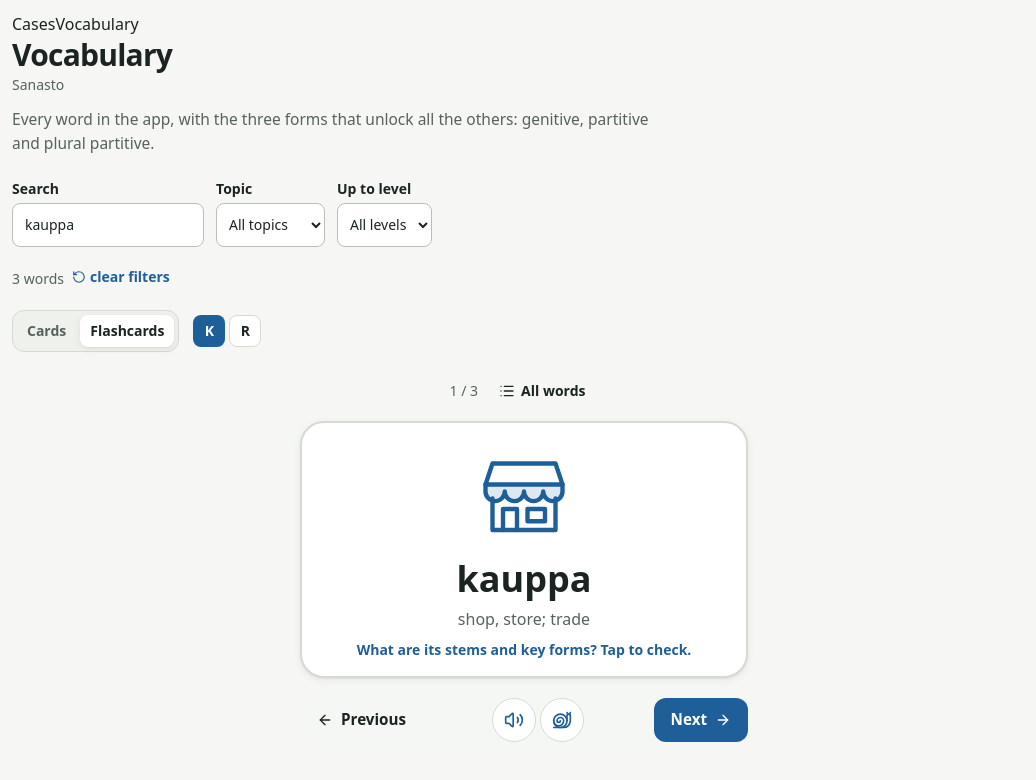
Vocabulary flashcards: the back of the card › shows the stems in the form colours and the key forms only once the card is turned
Expected: the text "Vowel stem" is not shown
Click the button "kauppa": click(524, 579) x1=456 y1=559 x2=592 y2=599
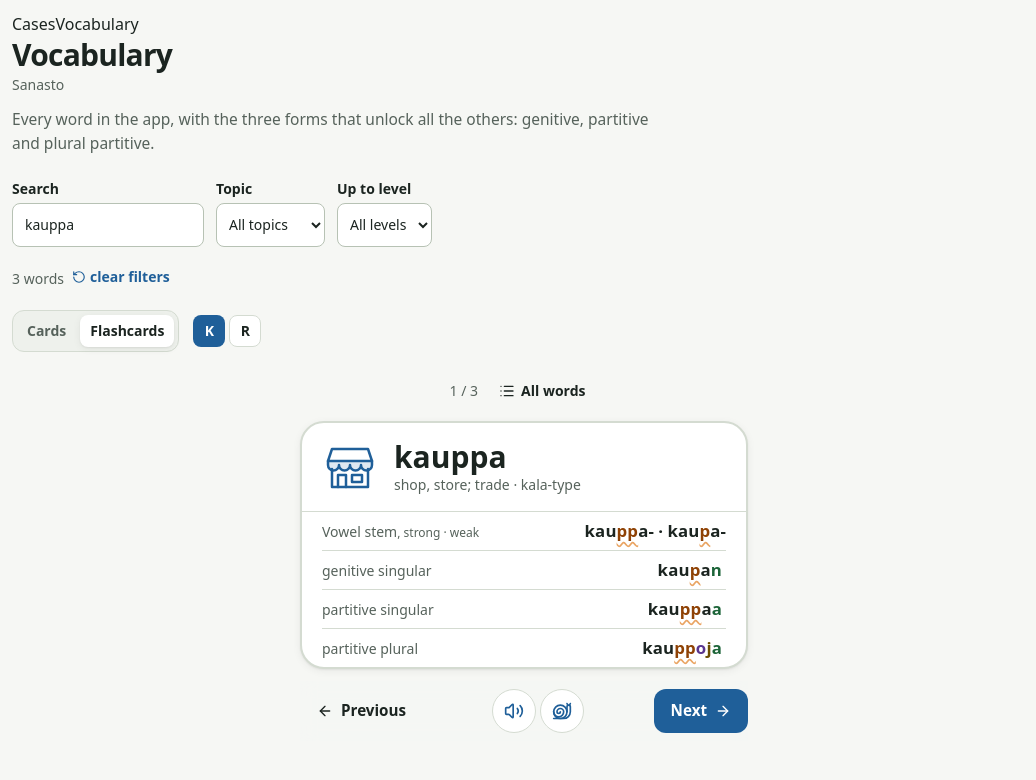
Expected: the button "kauppa" is expanded, x1=394 y1=439 x2=506 y2=475
Expected: the text "Vowel stem" shows "strong · weak", x1=404 y1=524 x2=479 y2=541
Expected: the element showing "kauppa- · kaupa-" is shown, x1=584 y1=518 x2=726 y2=544
